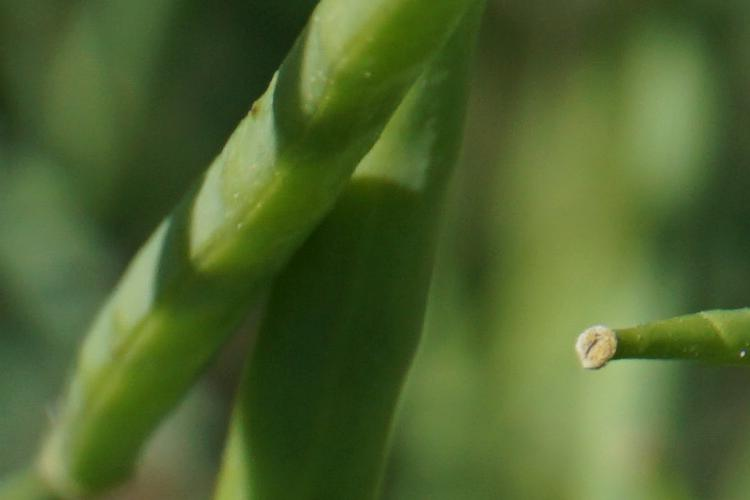pod: (564, 279, 740, 377)
